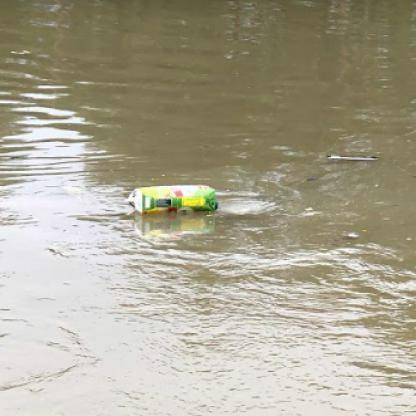Trash: (123, 180, 221, 216)
